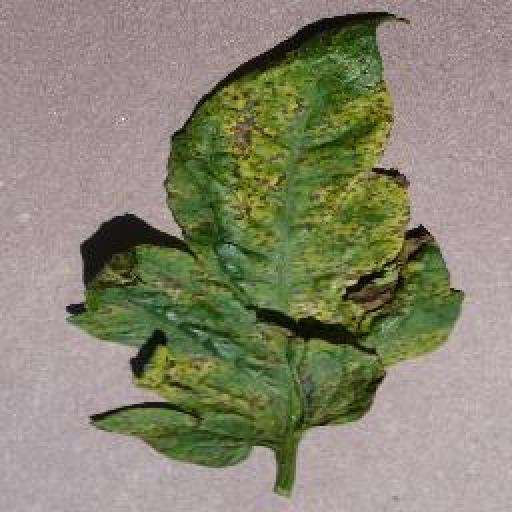disease_tomato: (63, 9, 467, 468)
